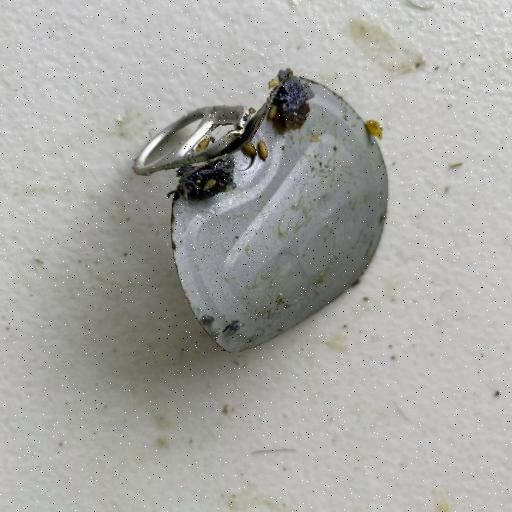Metal: (130, 66, 391, 354)
